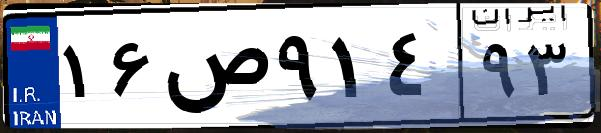1: (330, 28, 385, 110), (57, 26, 110, 100)
3: (525, 38, 570, 115)
4: (385, 28, 445, 110)
6: (110, 28, 158, 98)
9: (270, 28, 330, 110), (475, 38, 525, 113)
ص: (158, 20, 270, 120)
